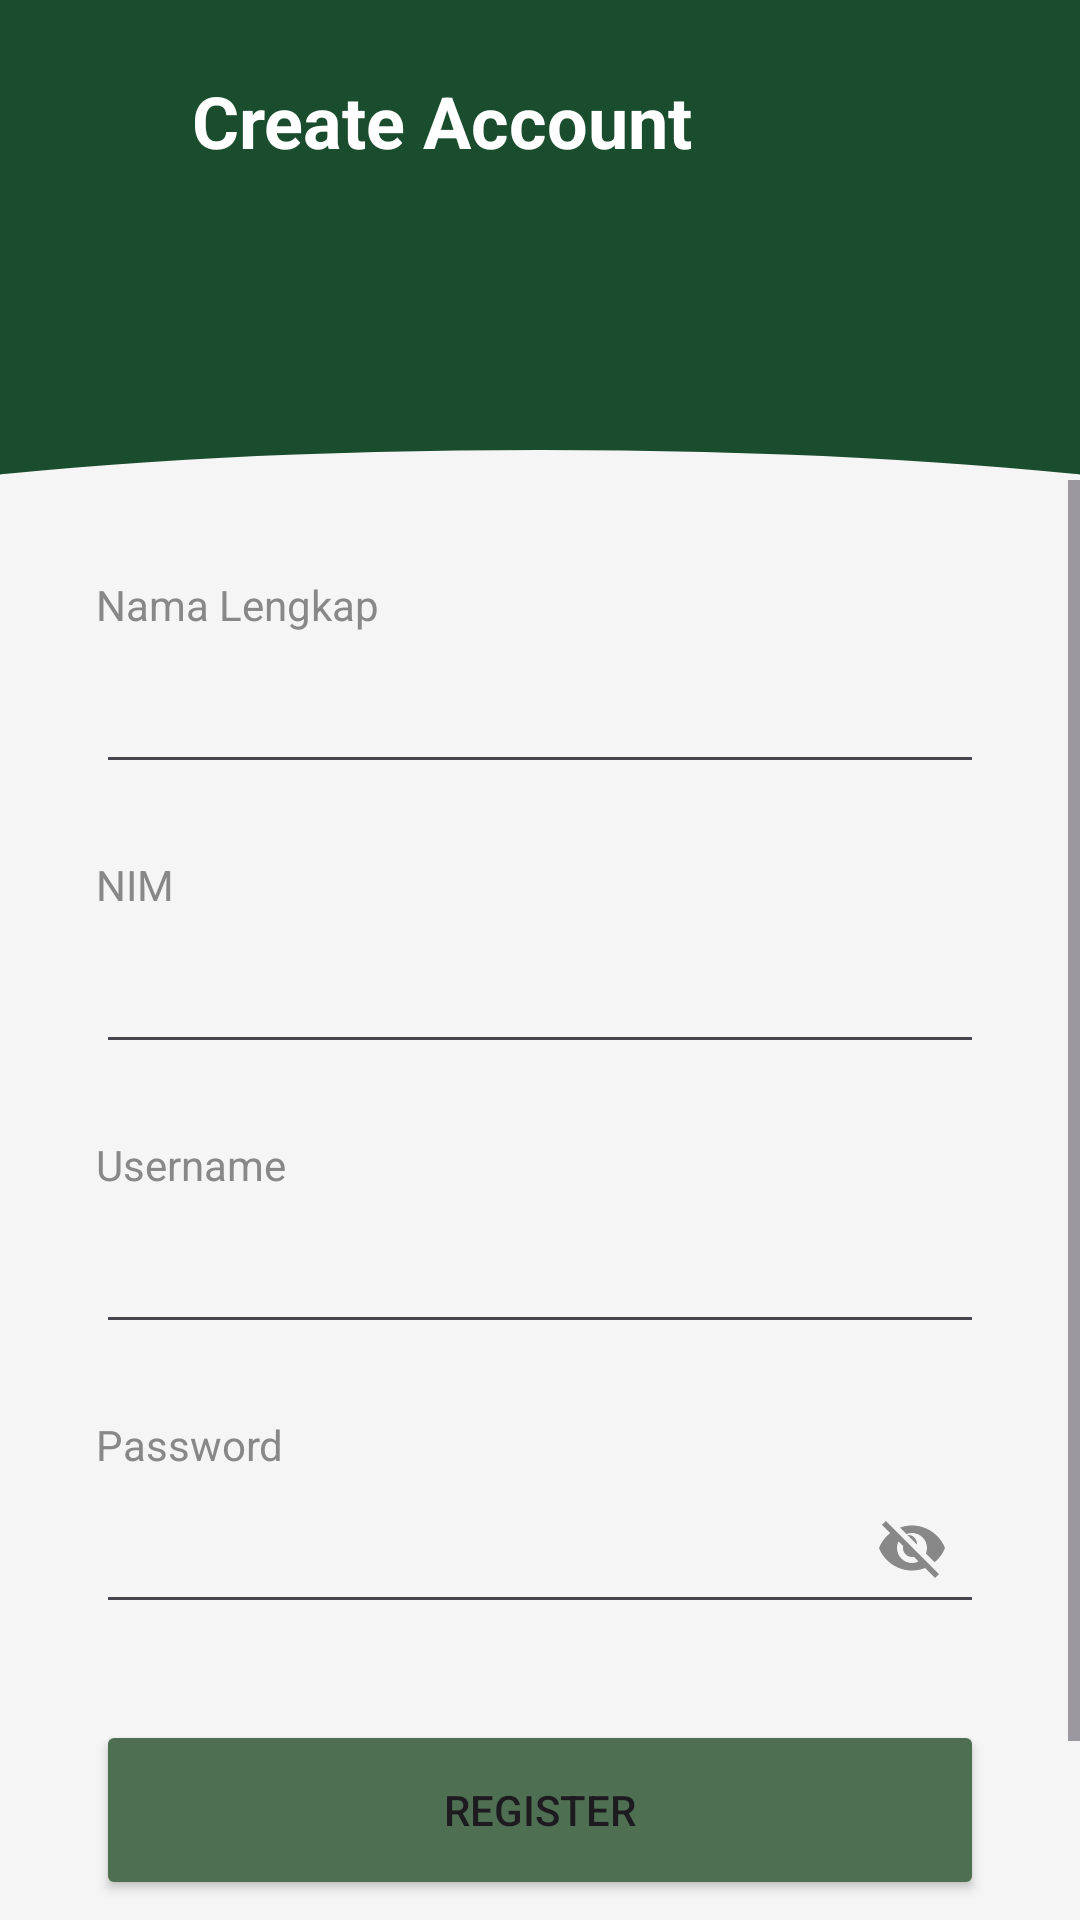

Named icons in this screenshot (1080px x 1920px) and their bounding boxes, (x1, y1, x2, y2):
Toggle password visibility: (879, 1521, 945, 1578)
